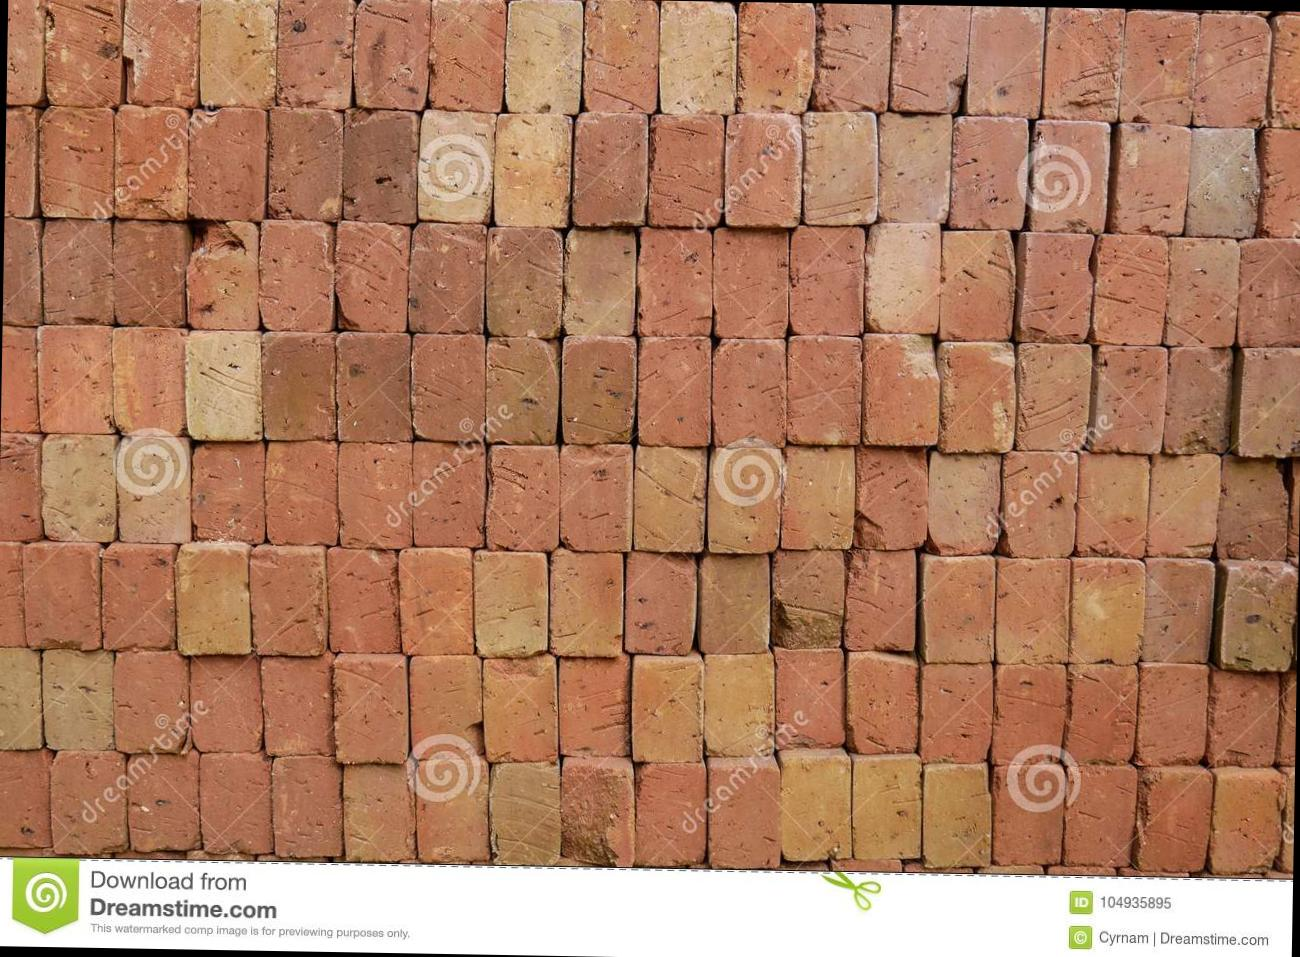brick: (1043, 7, 1125, 120), (725, 111, 803, 227), (658, 0, 738, 114), (1193, 13, 1271, 129), (189, 107, 267, 221), (494, 113, 572, 227), (936, 341, 1016, 452), (1031, 120, 1110, 232), (417, 110, 496, 223), (1119, 11, 1197, 125), (737, 1, 817, 112), (113, 104, 190, 219), (505, 0, 583, 112), (481, 651, 559, 764), (341, 109, 418, 223), (408, 221, 486, 332), (572, 112, 648, 227), (267, 107, 343, 222), (952, 117, 1030, 229), (862, 332, 940, 444), (336, 331, 414, 443), (967, 5, 1045, 117), (429, 0, 507, 112), (1112, 123, 1191, 233), (38, 105, 114, 219), (582, 0, 659, 112), (940, 227, 1015, 340), (185, 329, 262, 439), (43, 0, 123, 107), (37, 325, 116, 433), (892, 4, 971, 112), (198, 0, 277, 108), (174, 547, 252, 655), (1093, 233, 1169, 345), (561, 333, 637, 445), (804, 111, 878, 226), (1163, 236, 1240, 345), (21, 544, 101, 650), (260, 219, 335, 332), (789, 225, 866, 335), (637, 226, 714, 336), (713, 227, 789, 337), (813, 3, 891, 110), (486, 226, 562, 337), (1013, 342, 1091, 450), (122, 0, 200, 108), (354, 0, 431, 109), (876, 111, 952, 221), (276, 0, 353, 107), (411, 334, 488, 442), (260, 331, 337, 439), (251, 548, 328, 656), (110, 326, 186, 435), (115, 436, 193, 542), (49, 750, 128, 854), (649, 115, 723, 226), (186, 220, 260, 329), (1092, 345, 1167, 454), (1071, 558, 1146, 667), (473, 549, 548, 658), (326, 546, 403, 652), (399, 548, 475, 654), (1221, 565, 1298, 671), (638, 335, 712, 445), (559, 763, 637, 867), (1186, 130, 1261, 238), (713, 338, 787, 446), (549, 547, 624, 655), (866, 223, 940, 332), (336, 222, 410, 331), (787, 335, 861, 444), (922, 554, 995, 663), (485, 444, 561, 550), (338, 442, 414, 548), (708, 446, 782, 553), (41, 434, 115, 542), (1001, 451, 1077, 556), (412, 441, 486, 547), (996, 557, 1071, 663), (198, 751, 275, 854), (40, 221, 116, 325), (927, 451, 1001, 556), (1021, 232, 1093, 341), (1076, 450, 1150, 556), (264, 440, 338, 546), (559, 445, 633, 551), (489, 759, 562, 865), (1213, 455, 1289, 558), (634, 445, 707, 552), (332, 657, 407, 761), (563, 229, 636, 335), (780, 755, 853, 861), (772, 647, 847, 750), (992, 662, 1067, 765), (486, 336, 558, 443), (624, 551, 697, 655), (1137, 767, 1211, 871), (781, 446, 855, 549), (102, 546, 176, 649), (191, 442, 266, 542), (1148, 453, 1220, 557), (1144, 558, 1216, 662), (410, 654, 482, 758), (417, 758, 490, 862), (113, 651, 188, 752), (631, 657, 702, 762), (920, 660, 994, 762), (42, 647, 116, 749), (770, 549, 846, 648), (708, 764, 780, 867), (127, 751, 202, 851), (113, 222, 185, 326), (1136, 662, 1208, 766), (845, 548, 917, 650), (846, 650, 918, 752), (855, 449, 929, 549), (259, 655, 333, 755), (1164, 347, 1232, 454), (703, 653, 776, 754), (1066, 664, 1139, 765), (270, 755, 343, 856), (1066, 763, 1137, 865), (1211, 774, 1285, 873), (992, 764, 1065, 863), (635, 762, 705, 865), (343, 762, 416, 860), (924, 763, 991, 868), (853, 755, 922, 858), (190, 655, 262, 752), (559, 654, 629, 755), (1236, 236, 1300, 345), (1207, 670, 1278, 768), (1238, 345, 1300, 457), (700, 553, 770, 652), (0, 749, 55, 846), (0, 646, 45, 751), (1262, 128, 1300, 237), (1269, 15, 1300, 126)
